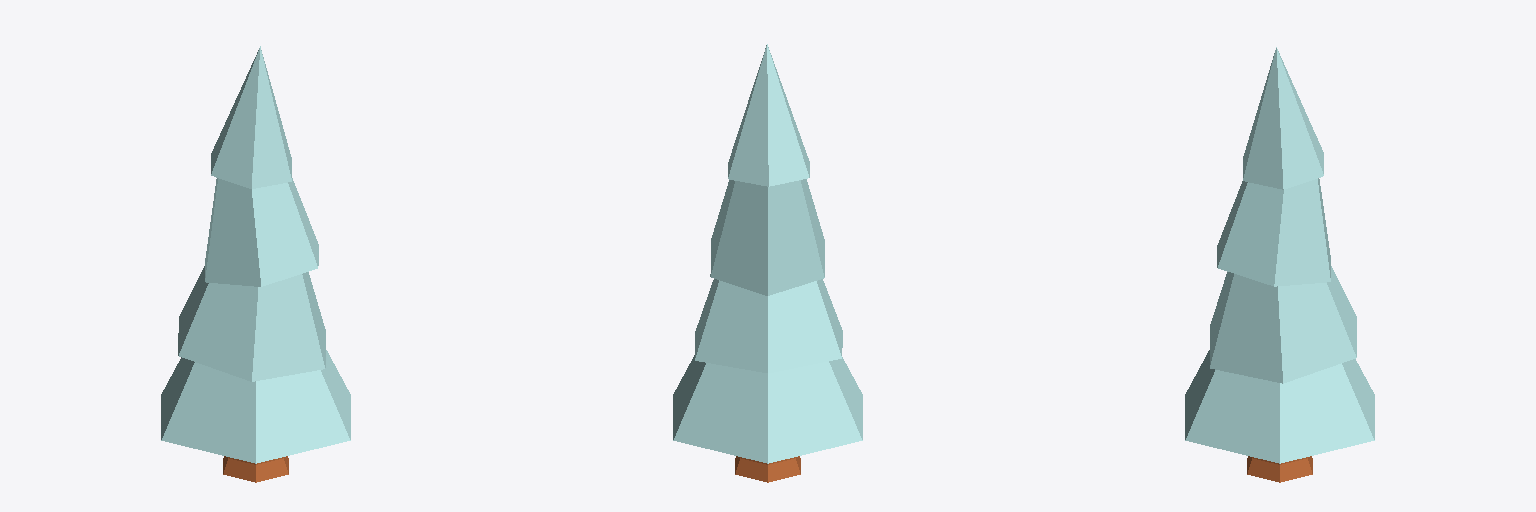
File: treePineSnowed.obj
The picture shows the model from 3 angles: view 1: azimuth 30°, elevation 25°; view 2: azimuth 150°, elevation 25°; view 3: azimuth 270°, elevation 25°; orthographic projection.
Parts seen in each view (by area): view 1: treePineSnowed; view 2: treePineSnowed; view 3: treePineSnowed.
Boxes of the visible parts, x1,y1,x2,y2 form: treePineSnowed: [161, 46, 350, 482]; treePineSnowed: [673, 44, 862, 482]; treePineSnowed: [1185, 47, 1374, 482].
Bounding box in the file's own units: 0.7517 × 1.6 × 0.651.